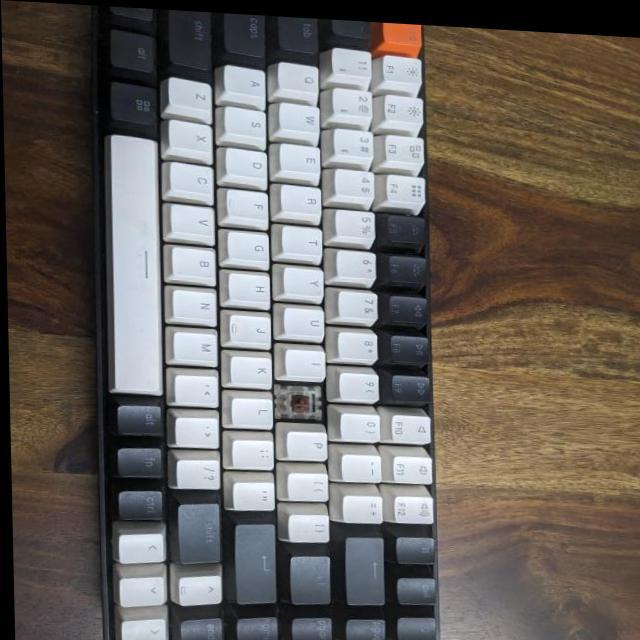key-switch: (271, 377, 321, 417)
